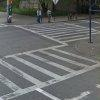Crosswalk: (3, 38, 98, 100)
